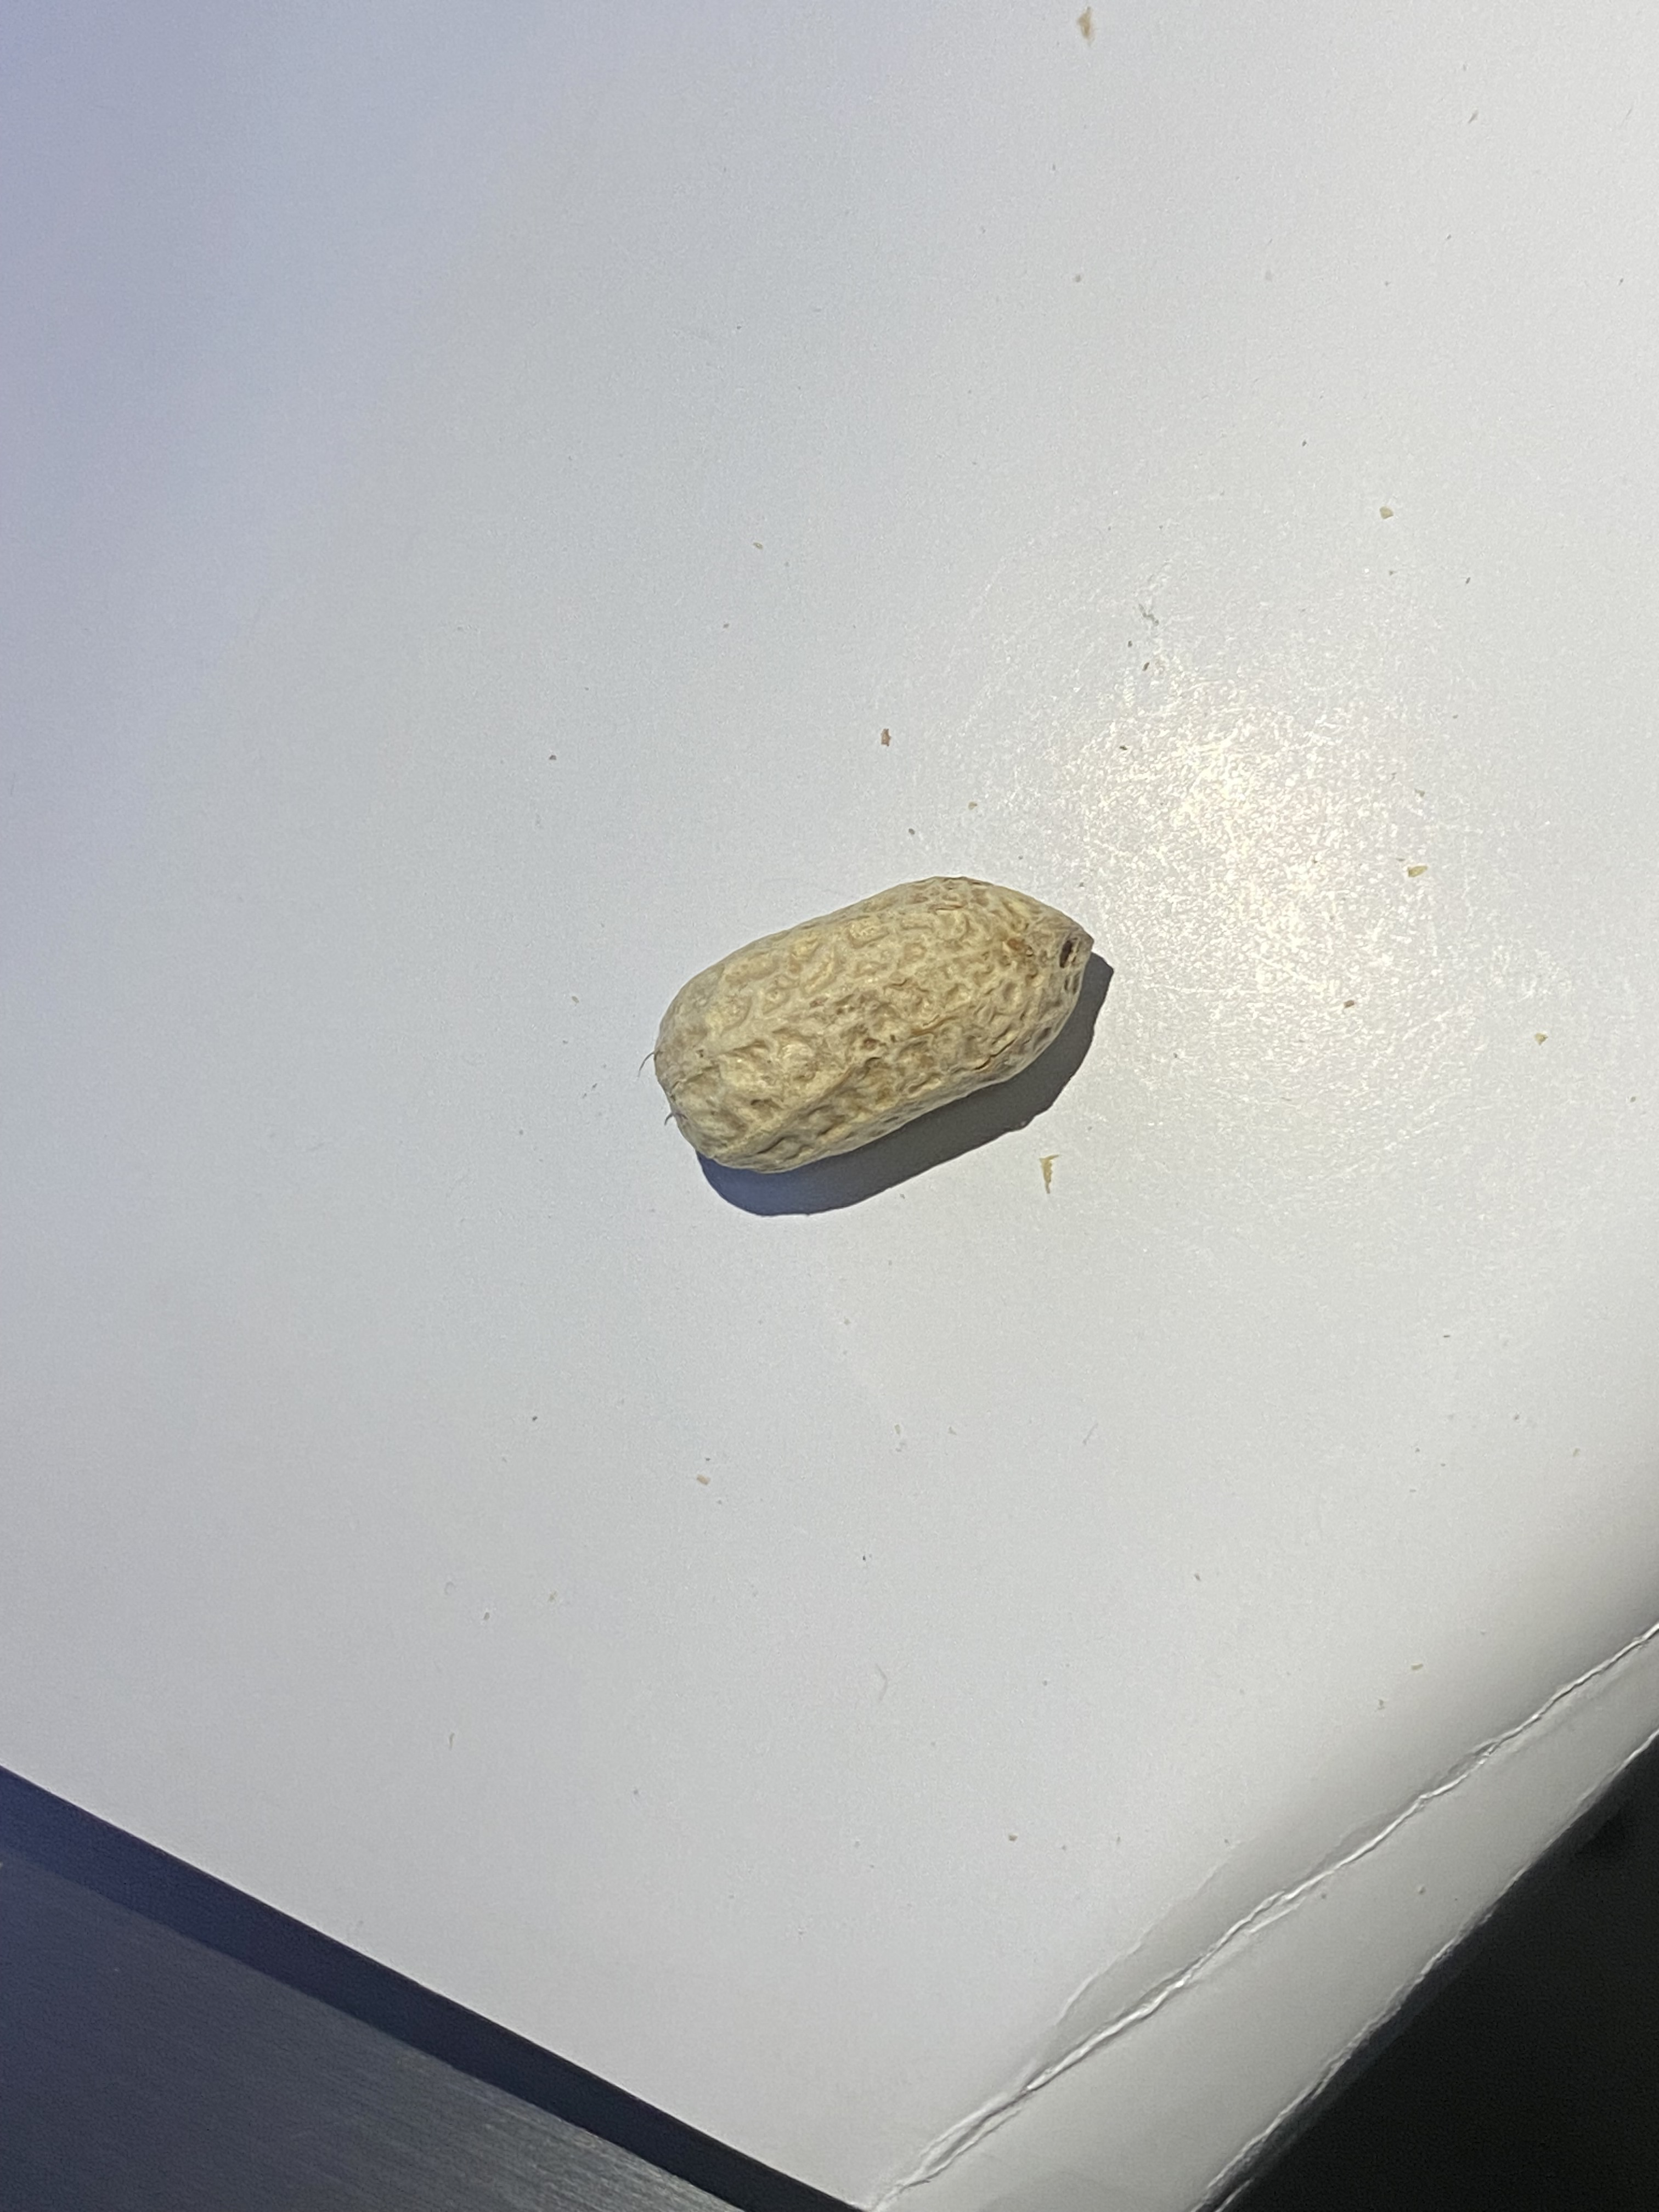kacang2: (629, 848, 1171, 1181)
